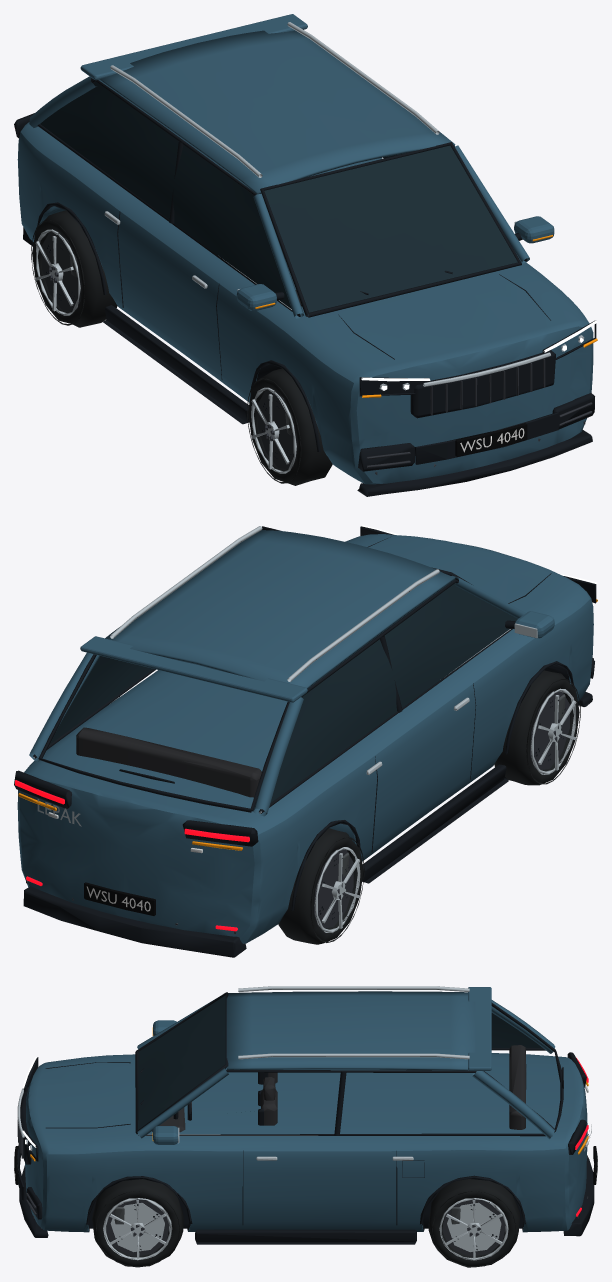
File: suv-mid.glb
The picture shows the model from 3 angles, top to bottom: view 1: azimuth 30°, elevation 25°; view 2: azimuth 150°, elevation 25°; view 3: azimuth 270°, elevation 25°; orthographic projection. The views are drawn at different scales.
Parts seen in each view (by area): view 1: chassis.001__Automotive clearcoat, chassis.001__Solar glass, chassis.001__Satin black trim, wheel_FL.001__Tyre rubber, wheel_RL.001__Tyre rubber, chassis.001__Machined aluminium, wheel_RL.001__Graphite alloy, wheel_FL.001__Graphite alloy, wheel_FL.001__Machined aluminium, wheel_RL.001__Machined aluminium, chassis.001__Graphite alloy, chassis.001__Black registration plate; view 2: chassis.001__Automotive clearcoat, chassis.001__Solar glass, chassis.001__Satin black trim, chassis.001__Charcoal upholstery, wheel_RL.001__Tyre rubber, wheel_FL.001__Tyre rubber, chassis.001__Machined aluminium, wheel_RL.001__Graphite alloy, wheel_FL.001__Graphite alloy, wheel_RL.001__Machined aluminium, wheel_FL.001__Machined aluminium, chassis.001__Black registration plate (+1 smaller); view 3: chassis.001__Automotive clearcoat, chassis.001__Satin black trim, chassis.001__Solar glass, wheel_RR.001__Tyre rubber, wheel_FR.001__Tyre rubber, chassis.001__Machined aluminium, wheel_FR.001__Machined aluminium, wheel_RR.001__Machined aluminium, chassis.001__Charcoal upholstery, wheel_RR.001__Graphite alloy, wheel_FR.001__Graphite alloy.
Boxes of the visible parts, bbox=[...] form: chassis.001__Automotive clearcoat: bbox=[17, 14, 593, 484]; chassis.001__Solar glass: bbox=[40, 82, 517, 315]; chassis.001__Satin black trim: bbox=[14, 78, 596, 496]; wheel_FL.001__Tyre rubber: bbox=[247, 368, 332, 485]; wheel_RL.001__Tyre rubber: bbox=[31, 210, 117, 327]; chassis.001__Machined aluminium: bbox=[104, 22, 584, 390]; wheel_RL.001__Graphite alloy: bbox=[42, 232, 81, 311]; wheel_FL.001__Graphite alloy: bbox=[258, 390, 297, 469]; wheel_FL.001__Machined aluminium: bbox=[251, 387, 296, 473]; wheel_RL.001__Machined aluminium: bbox=[35, 229, 80, 315]; chassis.001__Graphite alloy: bbox=[366, 358, 592, 474]; chassis.001__Black registration plate: bbox=[455, 423, 527, 456]; chassis.001__Automotive clearcoat: bbox=[17, 530, 593, 943]; chassis.001__Solar glass: bbox=[49, 582, 517, 802]; chassis.001__Satin black trim: bbox=[14, 526, 596, 957]; chassis.001__Charcoal upholstery: bbox=[76, 727, 261, 797]; wheel_RL.001__Tyre rubber: bbox=[278, 828, 364, 944]; wheel_FL.001__Tyre rubber: bbox=[494, 670, 580, 785]; chassis.001__Machined aluminium: bbox=[33, 526, 537, 826]; wheel_RL.001__Graphite alloy: bbox=[313, 849, 353, 928]; wheel_FL.001__Graphite alloy: bbox=[530, 690, 569, 769]; wheel_RL.001__Machined aluminium: bbox=[314, 847, 360, 932]; wheel_FL.001__Machined aluminium: bbox=[531, 688, 576, 774]; chassis.001__Black registration plate: bbox=[84, 882, 155, 915]; chassis.001__Automotive clearcoat: bbox=[25, 987, 587, 1232]; chassis.001__Satin black trim: bbox=[17, 992, 594, 1244]; chassis.001__Solar glass: bbox=[138, 995, 542, 1129]; wheel_RR.001__Tyre rubber: bbox=[428, 1179, 519, 1267]; wheel_FR.001__Tyre rubber: bbox=[92, 1179, 183, 1267]; chassis.001__Machined aluminium: bbox=[17, 986, 591, 1160]; wheel_FR.001__Machined aluminium: bbox=[103, 1198, 172, 1260]; wheel_RR.001__Machined aluminium: bbox=[439, 1198, 508, 1260]; chassis.001__Charcoal upholstery: bbox=[152, 1045, 526, 1132]; wheel_RR.001__Graphite alloy: bbox=[442, 1199, 505, 1256]; wheel_FR.001__Graphite alloy: bbox=[106, 1199, 169, 1256].
Bounding box in the file's own units: 2.18 × 1.73 × 4.64.
